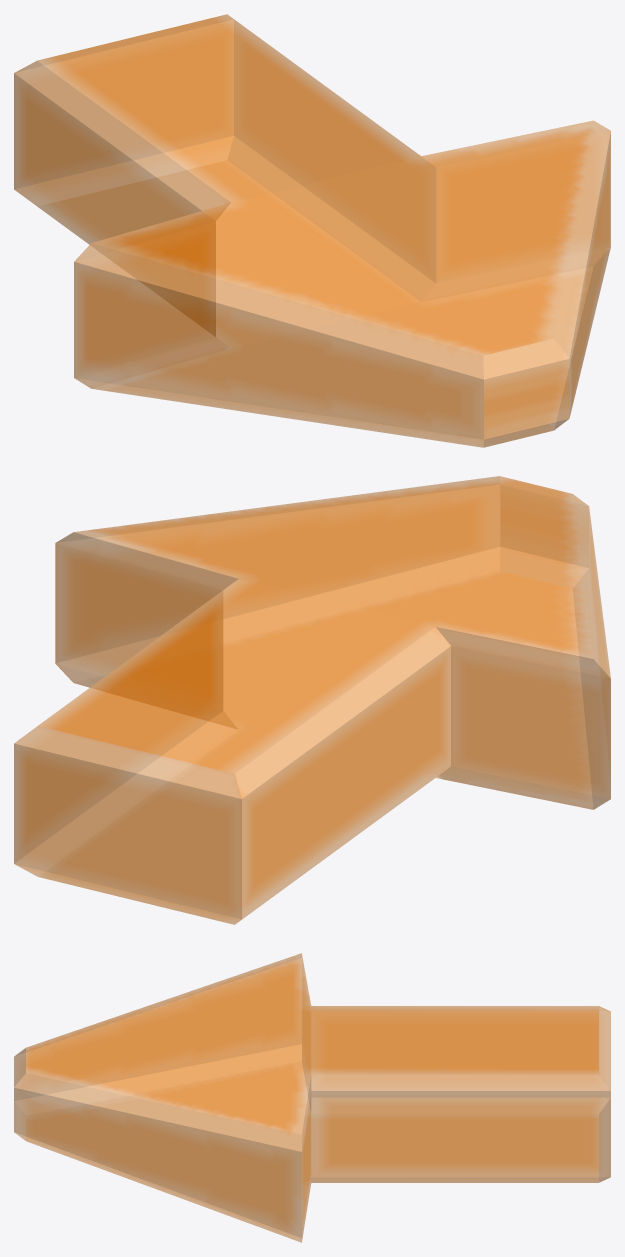
The model's file is Guide Arrow 1.fbx.
3 views of the same model, one above another, from view 1: azimuth 30°, elevation 25°; view 2: azimuth 150°, elevation 25°; view 3: azimuth 270°, elevation 25° (orthographic). The views are drawn at different scales.
Parts seen in each view (by area): view 1: Cube; view 2: Cube; view 3: Cube.
Part boxes in pixels (x1,y1,x2,y2): Cube: [14, 14, 610, 447]; Cube: [14, 476, 610, 924]; Cube: [14, 953, 610, 1242].
Bounding box in the file's own units: 770 × 200 × 1000.
1 material, 1 textured.
